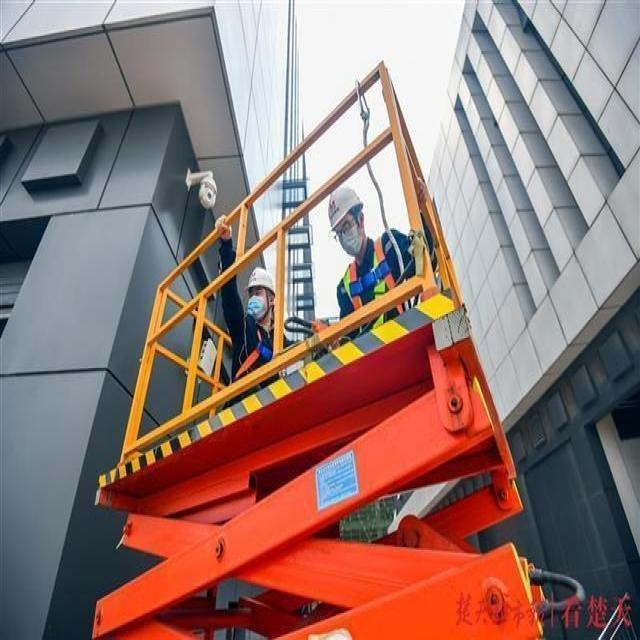Arnes_seguridad: (346, 242, 409, 327), (235, 323, 276, 382)
